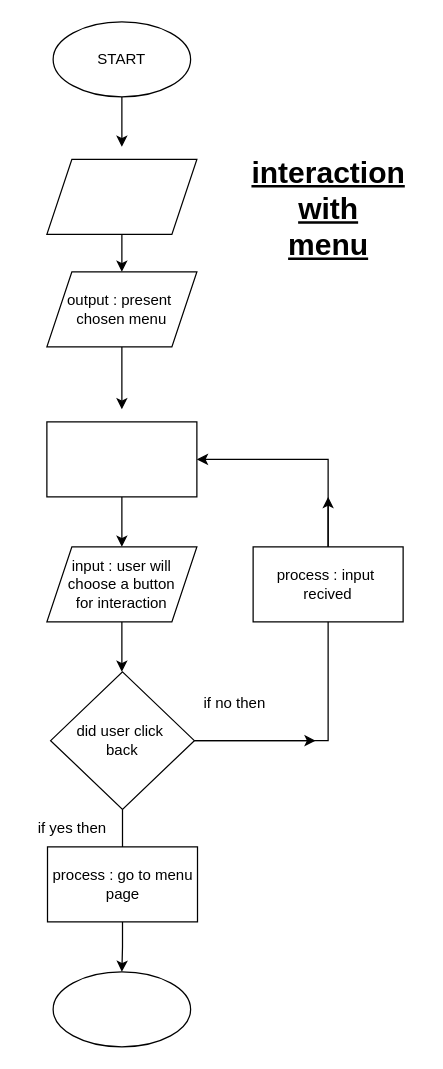
The diagram is 443 pixels wide and 1069 high, and some of its shapes have lost their labels. The shapes that lost their labels are listed below. From the top down, each one's centre as x and y in pixels, then its label:
pixel 121 196: input : users chooses a menu
pixel 121 459: process : wait for input by user
pixel 121 1009: END
